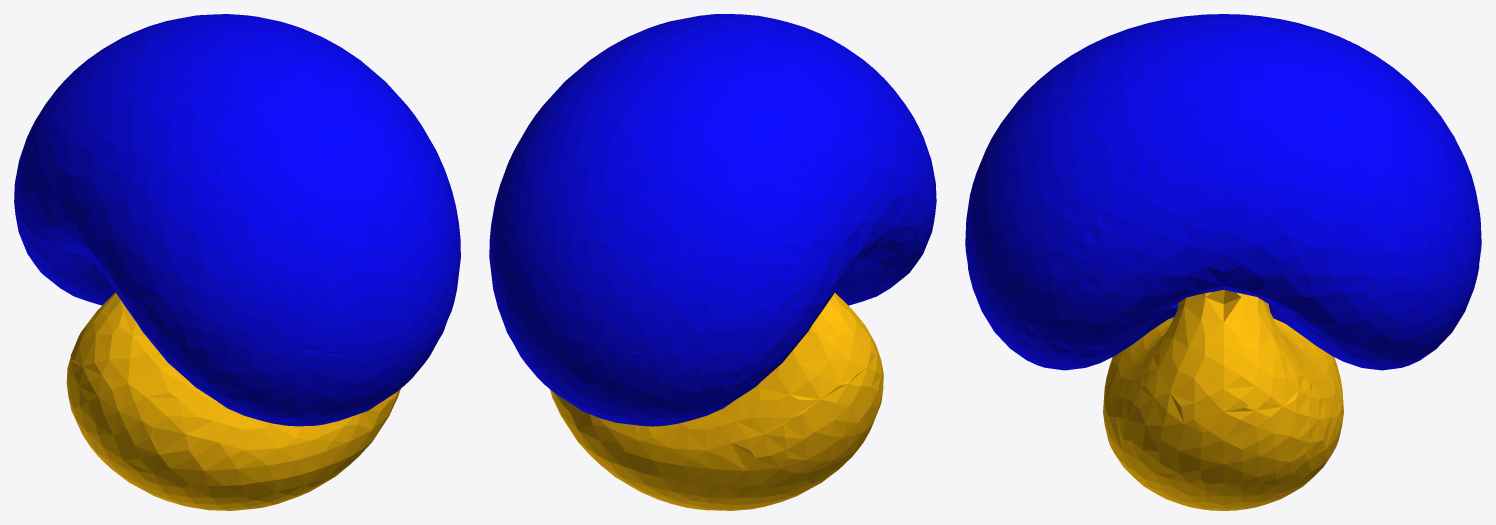
3 views of the same model, side by side, from view 1: azimuth 30°, elevation 25°; view 2: azimuth 150°, elevation 25°; view 3: azimuth 270°, elevation 25° (orthographic).
Size of the model in its own units: 17.54 by 23.21 by 23.7.
